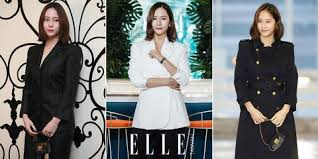C_shirt: (129, 35, 190, 131)
